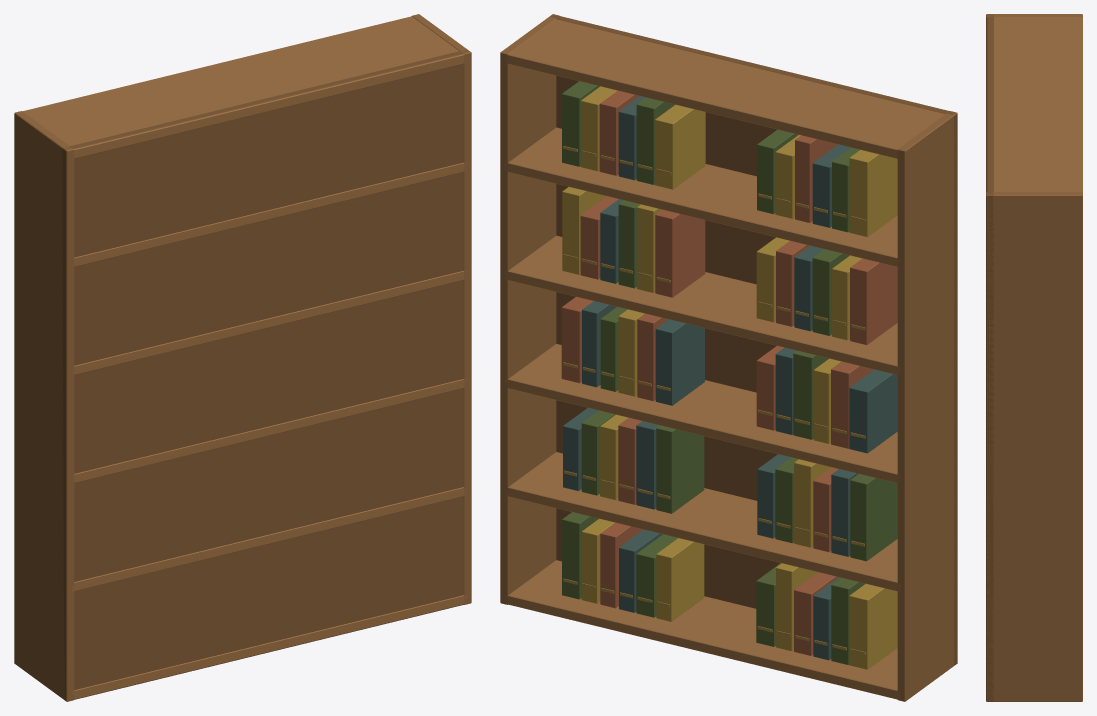
File: bookshelf_v2.glb
3 renders of one model, left to right at view 1: azimuth 30°, elevation 25°; view 2: azimuth 150°, elevation 25°; view 3: azimuth 270°, elevation 25°, orthographic. The views are drawn at different scales.
Parts seen in each view (by area): view 1: body; view 2: body; view 3: body.
Part boxes in pixels (x1,y1,x2,y2): body: (14, 14, 471, 701); body: (500, 14, 957, 701); body: (986, 14, 1082, 701).
Size of the model in its own units: 2 by 2.6 by 0.45.
